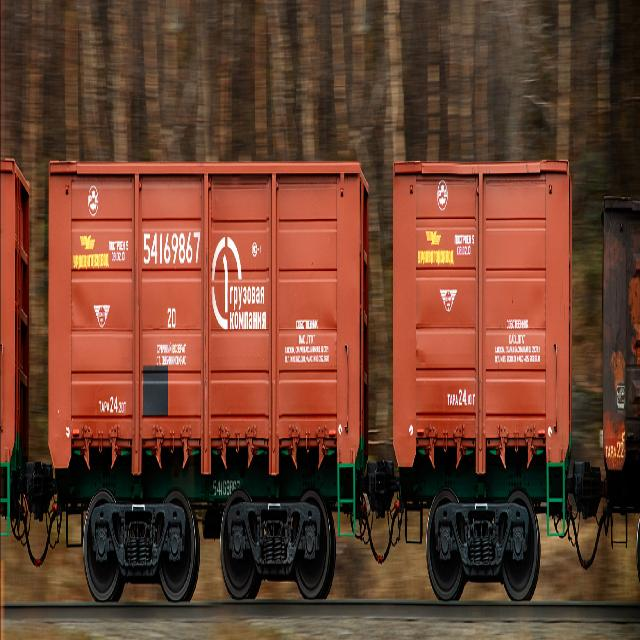gondola: (44, 143, 371, 604), (387, 121, 578, 612), (0, 140, 32, 606)
